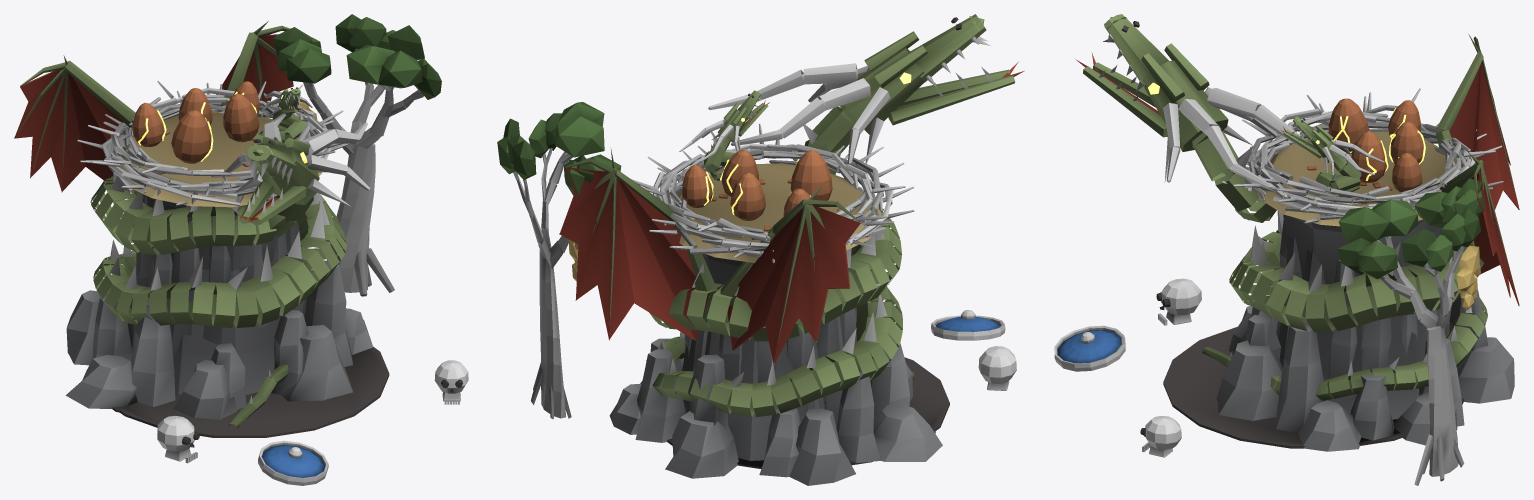
Rendered from drakon-nest-l3.glb.
The picture shows the model from 3 angles, left to right: view 1: azimuth 30°, elevation 25°; view 2: azimuth 150°, elevation 25°; view 3: azimuth 270°, elevation 25°; orthographic projection. The views are drawn at different scales.
Visible parts, largest first — view 1: drakon-nest-l3; view 2: drakon-nest-l3; view 3: drakon-nest-l3.
Part boxes in pixels (x1=…): drakon-nest-l3: x1=14, y1=14, x2=468, y2=485; drakon-nest-l3: x1=497, y1=14, x2=1024, y2=485; drakon-nest-l3: x1=1054, y1=14, x2=1519, y2=485.
Size of the model in its own units: 1.34 by 1.1 by 1.39.
